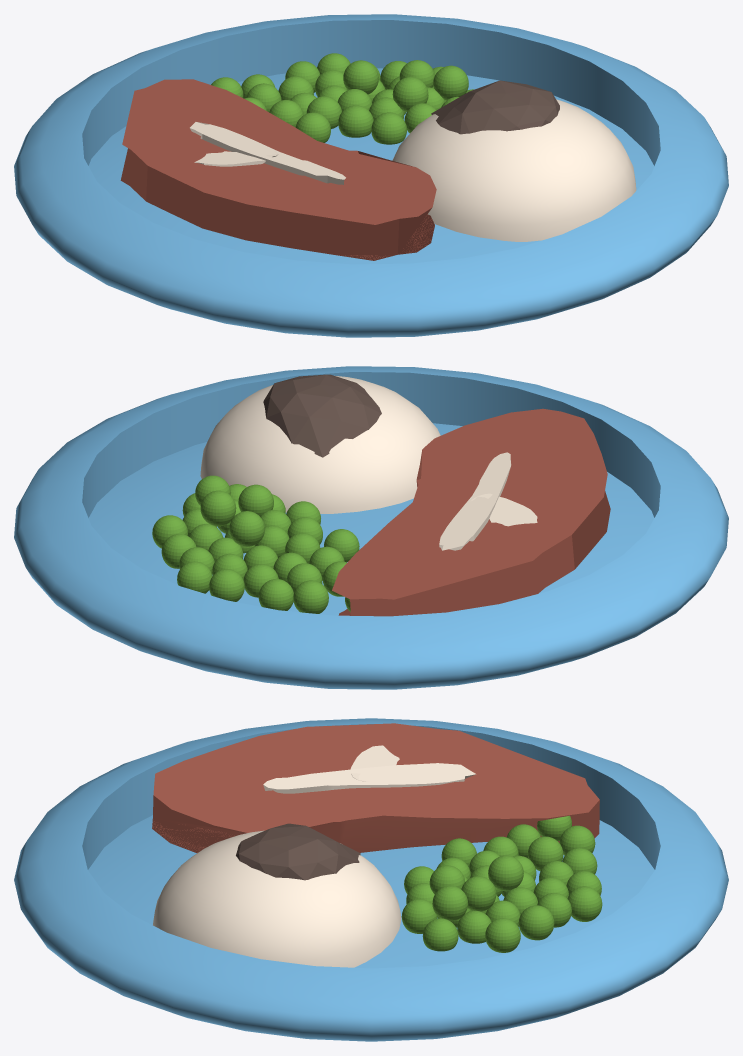
File: PlateOfFood.ul.fbx
The picture shows the model from 3 angles, top to bottom: view 1: azimuth 30°, elevation 25°; view 2: azimuth 150°, elevation 25°; view 3: azimuth 270°, elevation 25°; orthographic projection.
Visible parts, largest first — view 1: Plate, Meat.002, Mash, Icosphere, pea.028, pea.017, pea.030, pea.032, pea.029, pea.016, pea.001, pea.031 (+6 smaller); view 2: Plate, Meat.002, Mash, Icosphere, pea.031, pea.032, pea.015, pea.013, pea.011, pea.019, pea.029, pea.018 (+14 smaller); view 3: Plate, Meat.002, Mash, Icosphere, pea.018, pea.030, pea.023, pea.032, pea.027, pea.019, pea.031, pea.026 (+14 smaller).
Boxes of the visible parts, x1,y1,x2,y2 form: Plate: (14,14,728,337); Meat.002: (120,79,436,260); Mash: (392,99,636,241); Icosphere: (431,80,559,134); pea.028: (371,112,406,144); pea.017: (338,105,373,137); pea.030: (433,65,468,100); pea.032: (343,60,378,94); pea.029: (392,77,428,112); pea.016: (295,112,330,142); pea.001: (306,96,341,128); pea.031: (399,60,434,87); Plate: (14,366,728,689); Meat.002: (332,408,610,616); Mash: (200,375,440,513); Icosphere: (263,374,381,457); pea.031: (200,490,236,526); pea.032: (229,511,264,546); pea.015: (293,580,328,613); pea.013: (209,569,244,601); pea.011: (258,579,293,610); pea.019: (177,561,212,593); pea.029: (238,484,273,516); pea.018: (161,534,196,568); Plate: (14,718,728,1041); Meat.002: (152,723,599,852); Mash: (153,830,401,967); Icosphere: (236,823,360,880); pea.018: (518,905,554,940); pea.030: (432,885,467,921); pea.023: (485,918,520,952); pea.032: (488,855,523,891); pea.027: (422,918,458,951); pea.019: (567,886,602,921); pea.031: (461,876,496,911); pea.026: (401,899,437,933).
Size of the model in its own units: 40 by 9.15 by 40.
